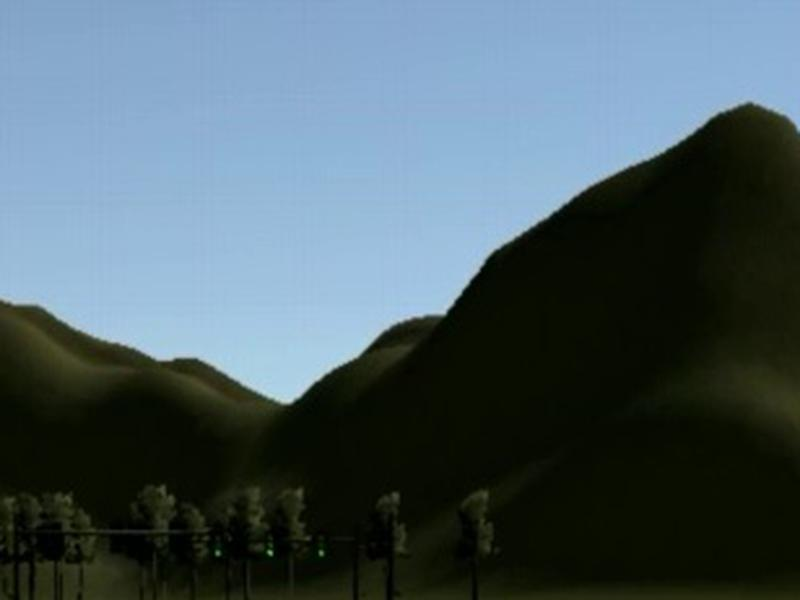Green: (266, 535, 274, 558), (318, 537, 325, 558), (214, 538, 221, 559)
